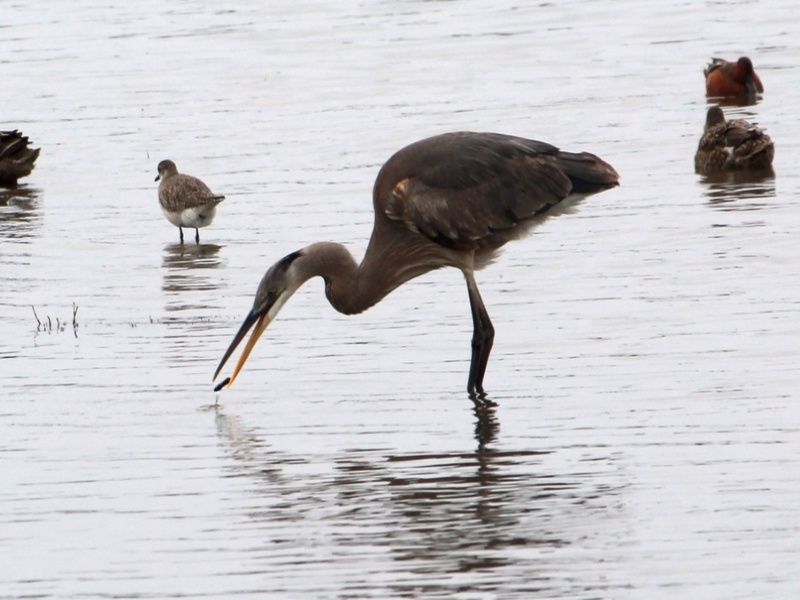heron: (212, 129, 621, 422)
